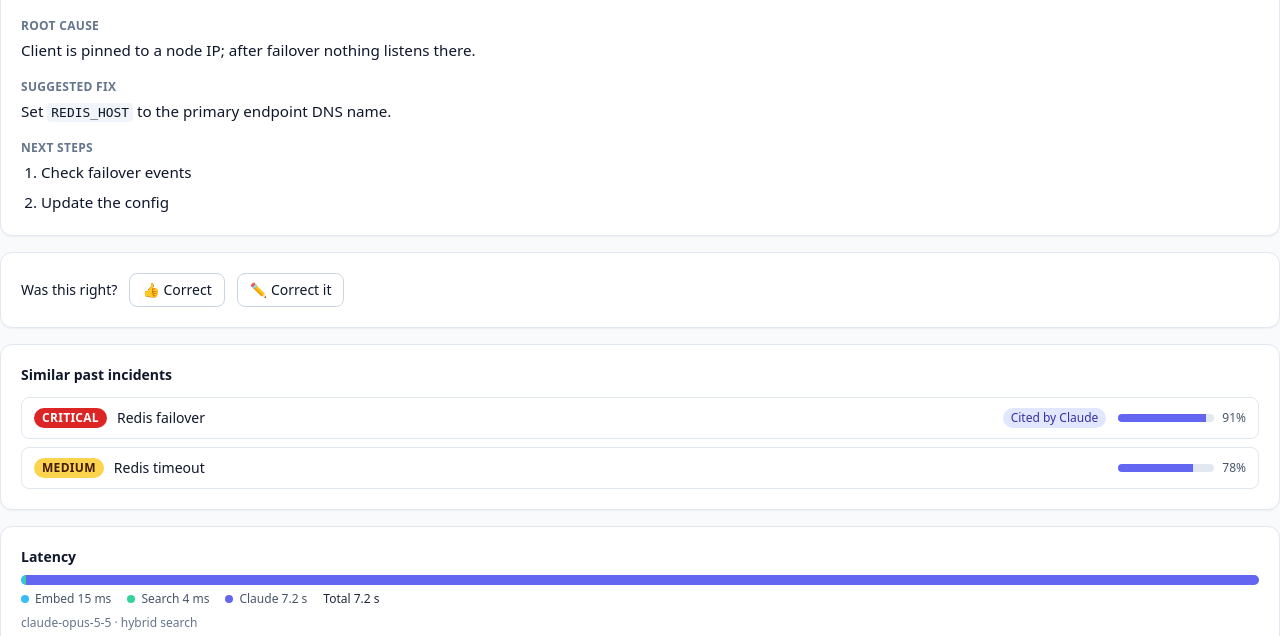
Scenario: Feedback › sends the correction and shows the new incident id
Click the button "✏️ Correct it" at {"x": 291, "y": 290}, box [237, 273, 344, 307]
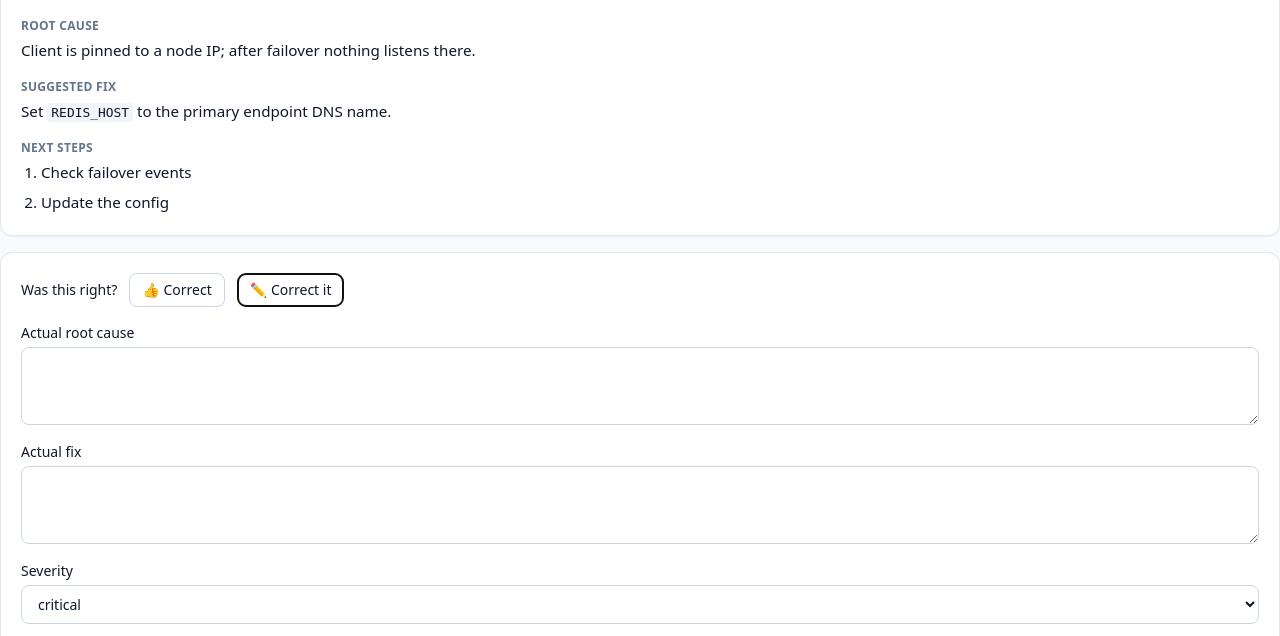
Type "Security group blocked 6379" into the text box labelled "Actual root cause" at {"x": 640, "y": 386}, box [21, 347, 1259, 425]
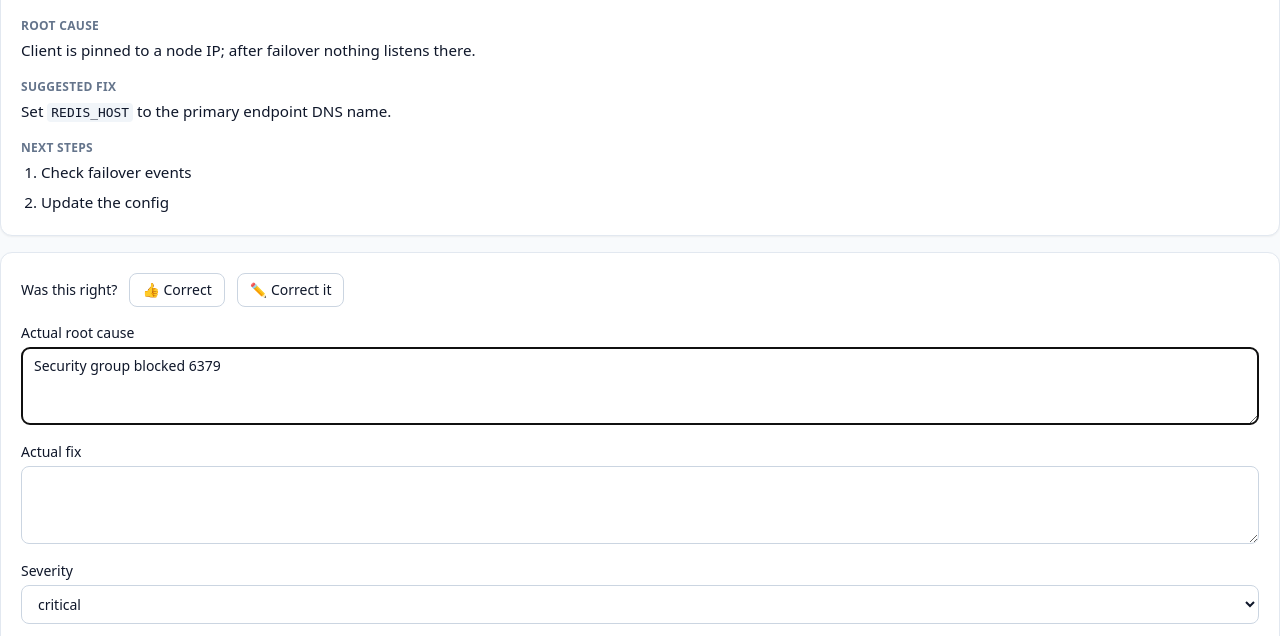
Type "Re-open port 6379" into the text box labelled "Actual fix" at {"x": 640, "y": 505}, box [21, 466, 1259, 544]
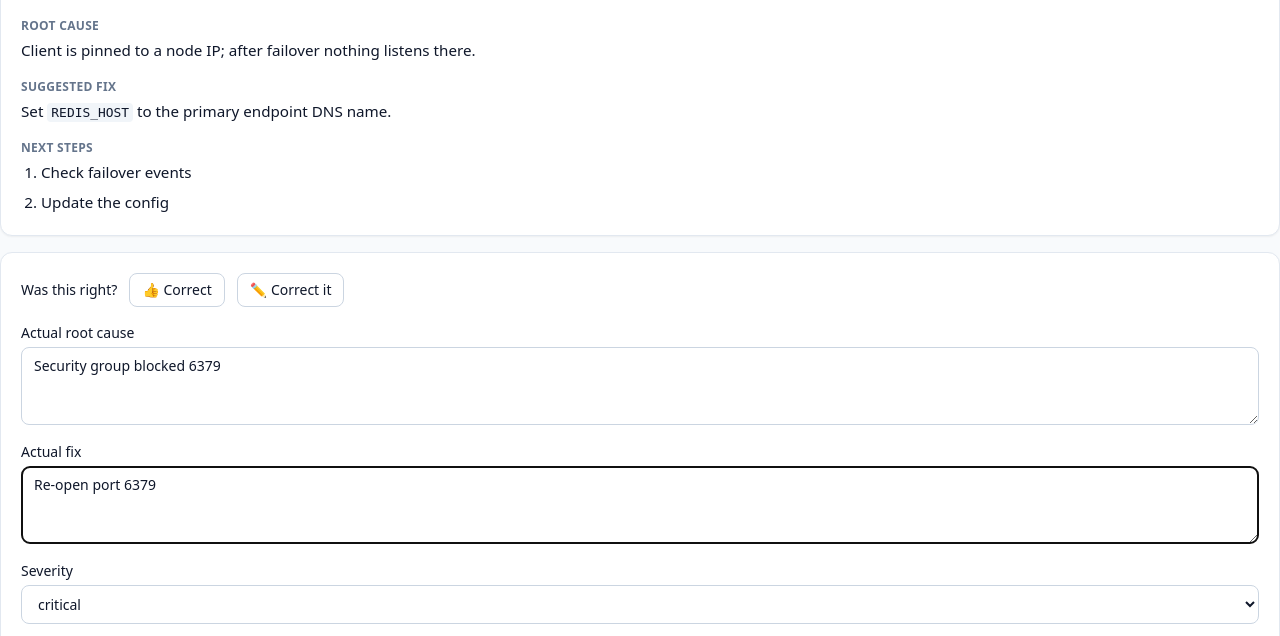
Select "high" in the dropdown labelled "Severity" at {"x": 640, "y": 605}, box [21, 585, 1259, 624]
(page scrolled)
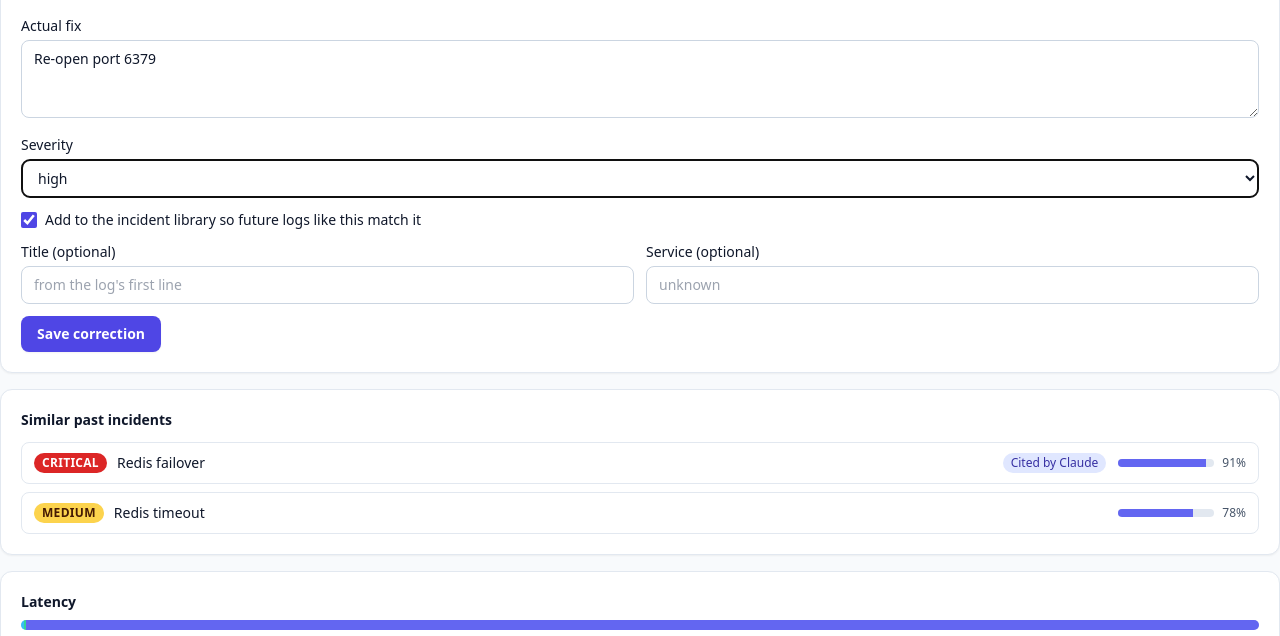
Type "session-api" into the field labelled "Service (optional)" at {"x": 952, "y": 285}, box [646, 266, 1259, 304]
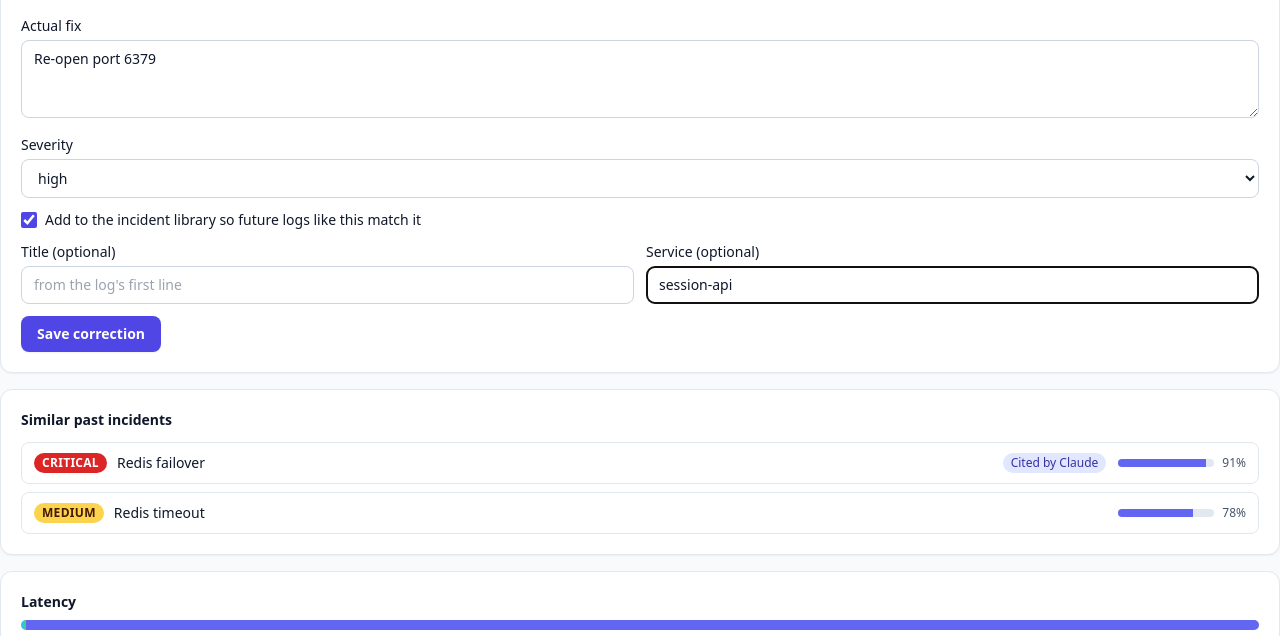
Click the button "Save correction" at {"x": 91, "y": 334}, box [21, 316, 161, 352]
(page scrolled)
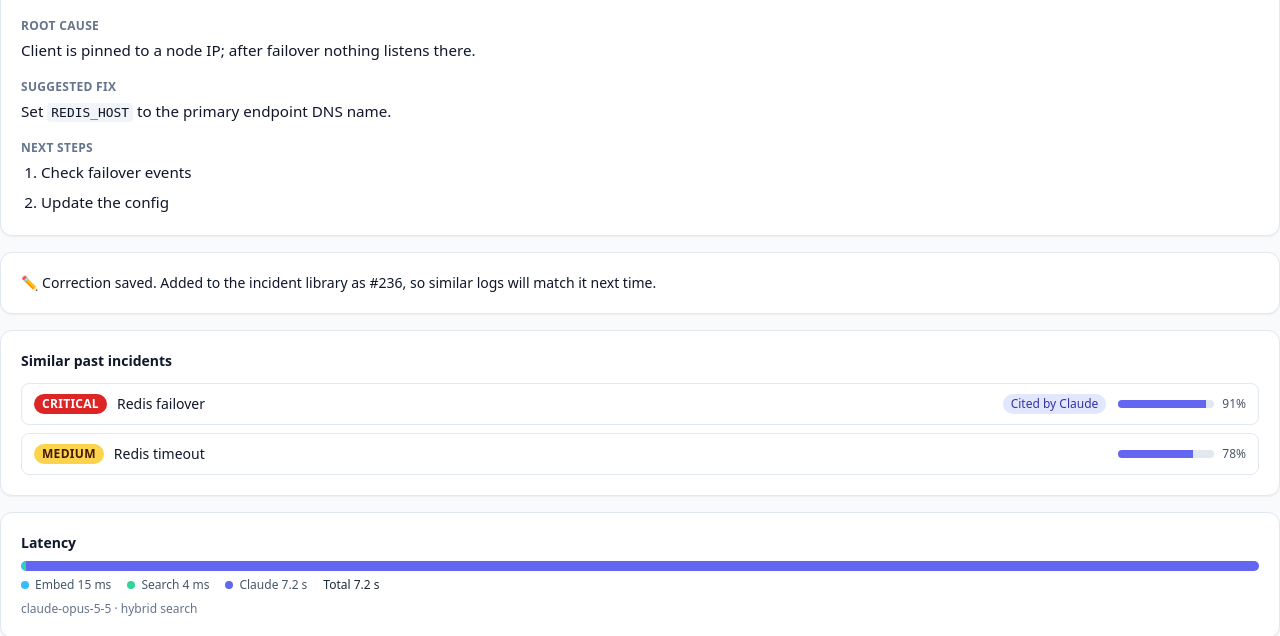
Expected: the message with test id "feedback-done" shows "#236", [21, 273, 656, 292]
